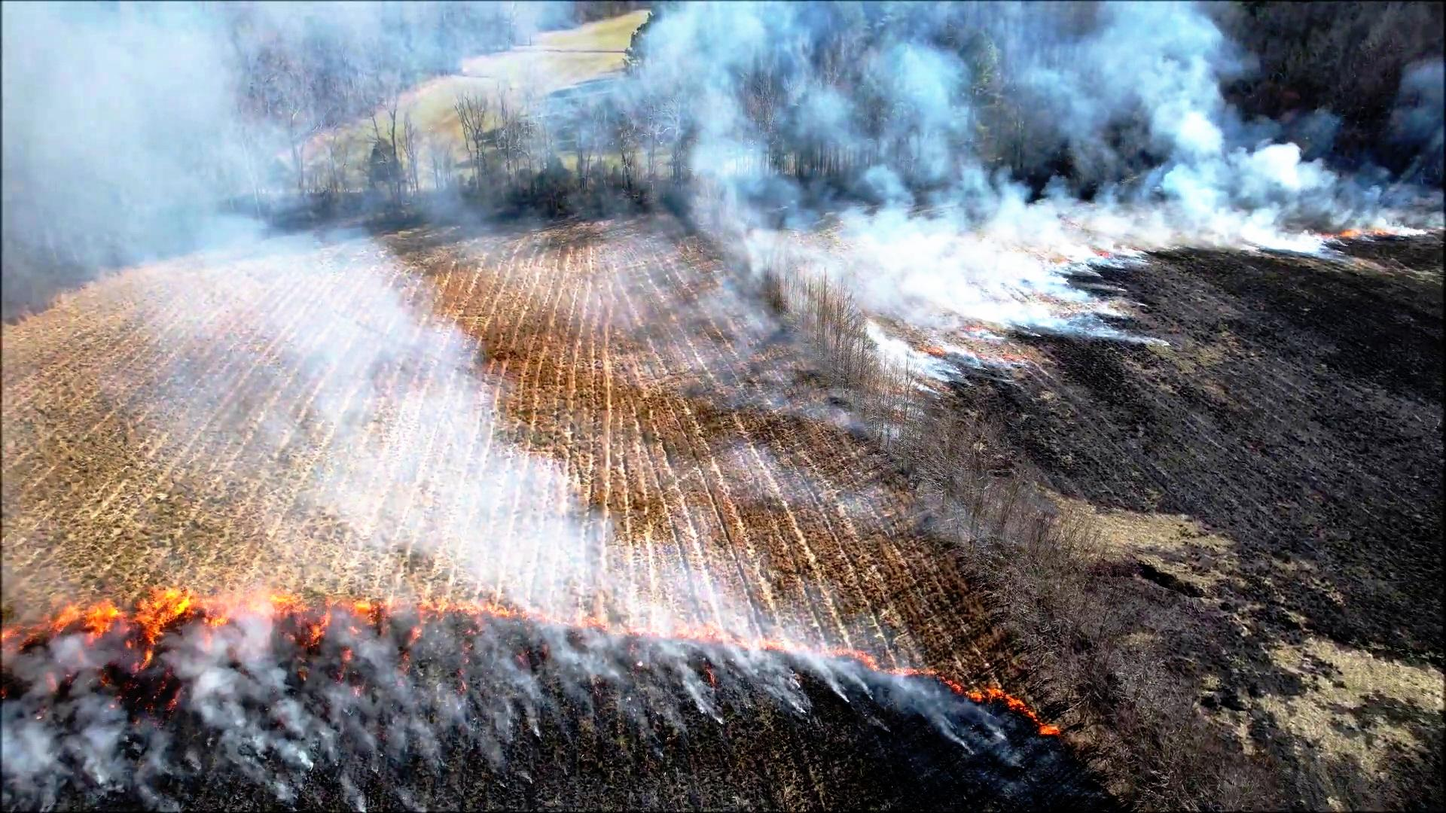fire: (132, 561, 316, 647)
smoke: (8, 4, 659, 591), (636, 0, 892, 354), (904, 41, 1118, 339), (1141, 11, 1393, 241), (0, 666, 169, 813), (203, 644, 358, 802)
